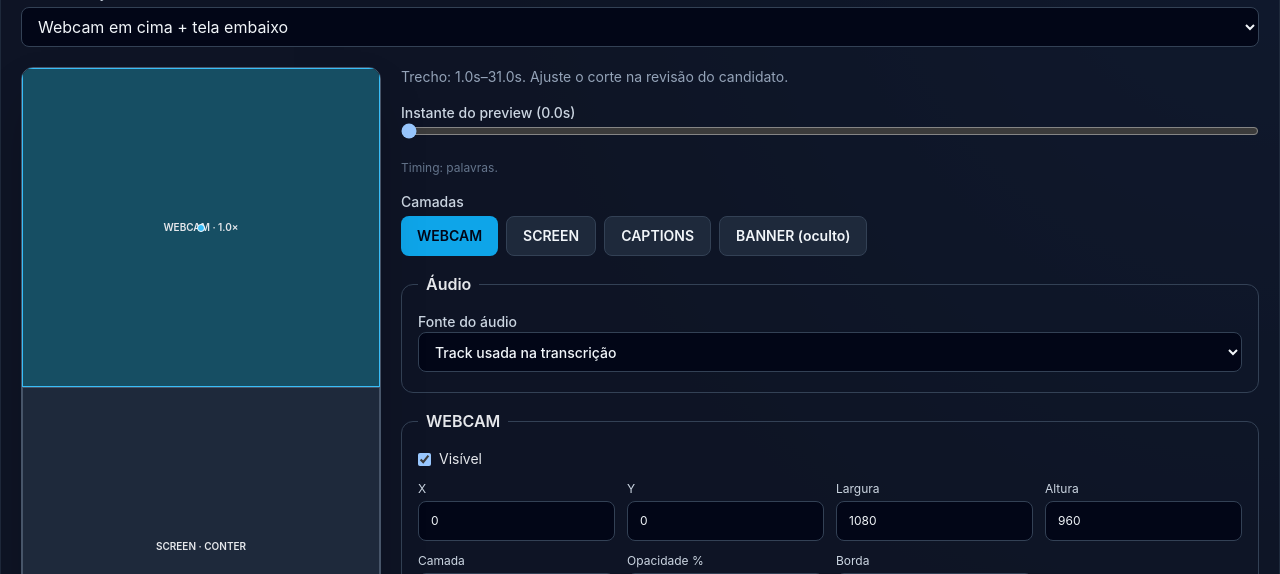
Test: EditorPanel › keeps caption controls accessible but hides caption content when captions are disabled
Expected: the text "Timing: palavras." is shown, [401, 160, 498, 175]
Click the button "CAPTIONS".
click(658, 236)  # box [604, 216, 711, 256]
(page scrolled)
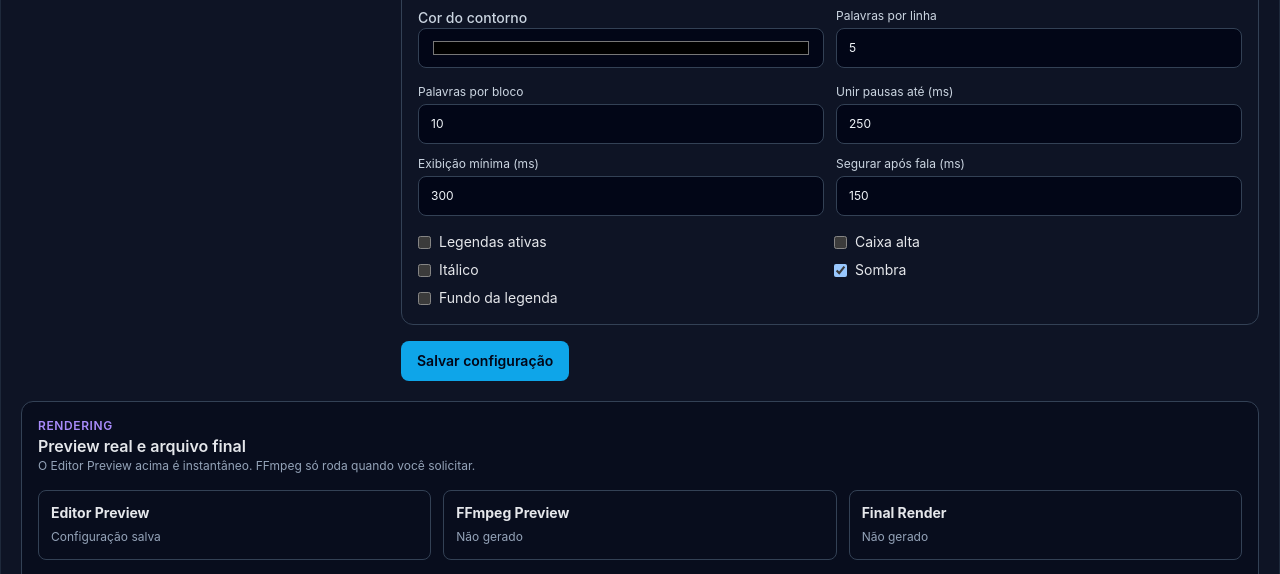
Result: the checkbox labelled "Legendas ativas" is not checked at [418, 236, 431, 248]
